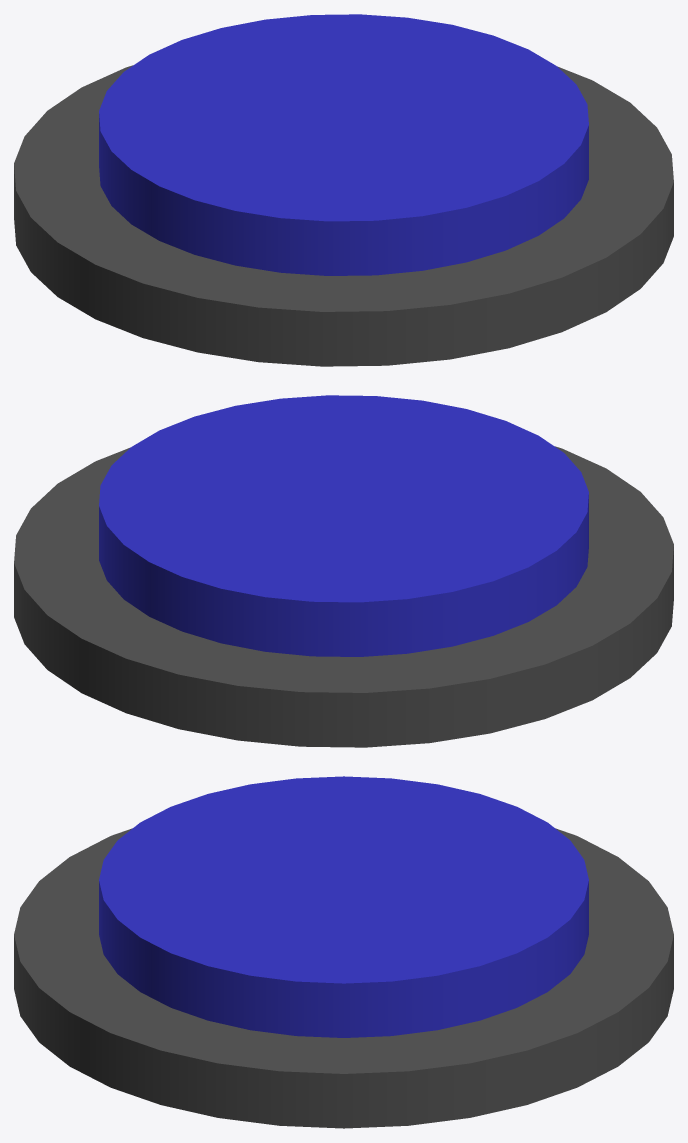
The model's file is button_blue.fbx.
The picture shows the model from 3 angles, top to bottom: view 1: azimuth 30°, elevation 25°; view 2: azimuth 150°, elevation 25°; view 3: azimuth 270°, elevation 25°; orthographic projection.
Parts seen in each view (by area): view 1: Mesh; view 2: Mesh; view 3: Mesh.
Boxes of the visible parts, x1,y1,x2,y2 form: Mesh: (14,14,673,366); Mesh: (14,395,673,747); Mesh: (14,776,673,1128).
Bounding box in the file's own units: 1 × 0.1823 × 1.
